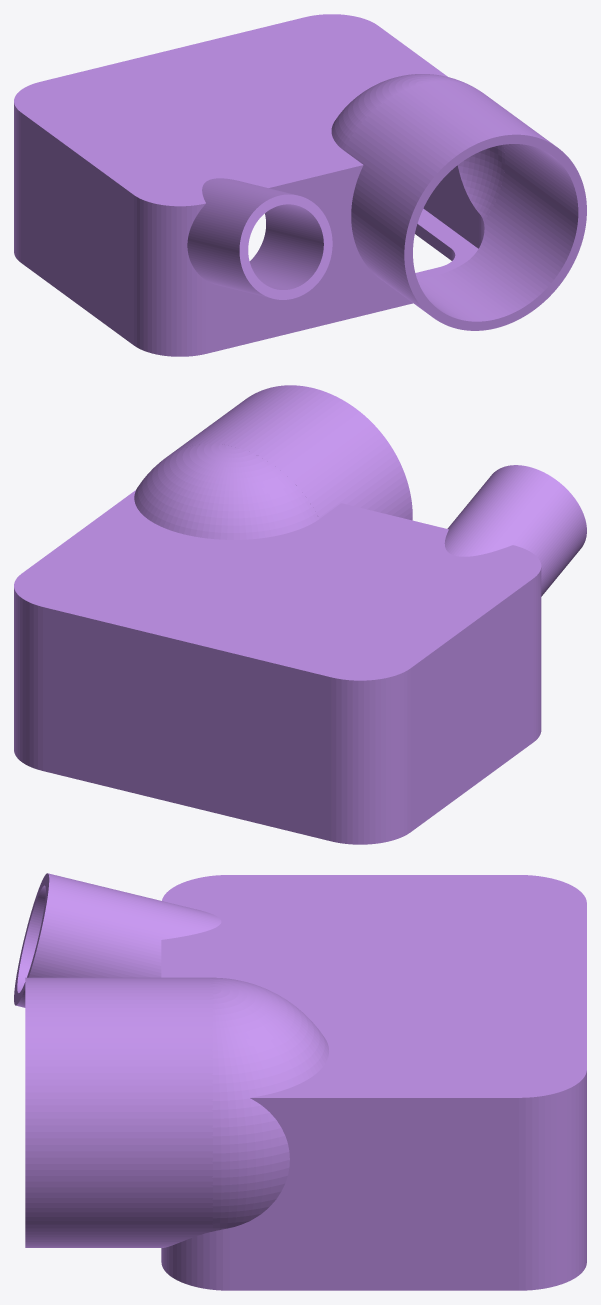
The model's file is dual-feed.glb.
3 views of the same model, one above another, from view 1: azimuth 30°, elevation 25°; view 2: azimuth 150°, elevation 25°; view 3: azimuth 270°, elevation 25° (orthographic). The views are drawn at different scales.
Visible parts, largest first — view 1: REVIEW_EXPORT_dual-feed; view 2: REVIEW_EXPORT_dual-feed; view 3: REVIEW_EXPORT_dual-feed.
Part boxes in pixels (x1,y1,x2,y2): REVIEW_EXPORT_dual-feed: [14, 14, 586, 356]; REVIEW_EXPORT_dual-feed: [14, 385, 586, 844]; REVIEW_EXPORT_dual-feed: [14, 873, 586, 1290].
Bounding box in the file's own units: 0.1298 × 0.0658 × 0.1346.
